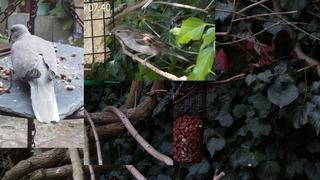collared dove: (8, 24, 60, 124)
sparrow: (108, 24, 191, 69)
